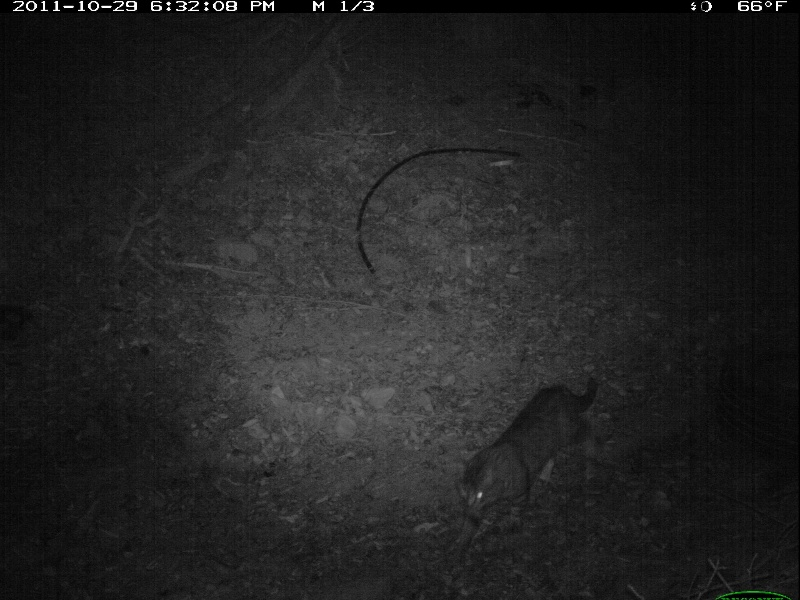cat: (455, 371, 601, 529)
